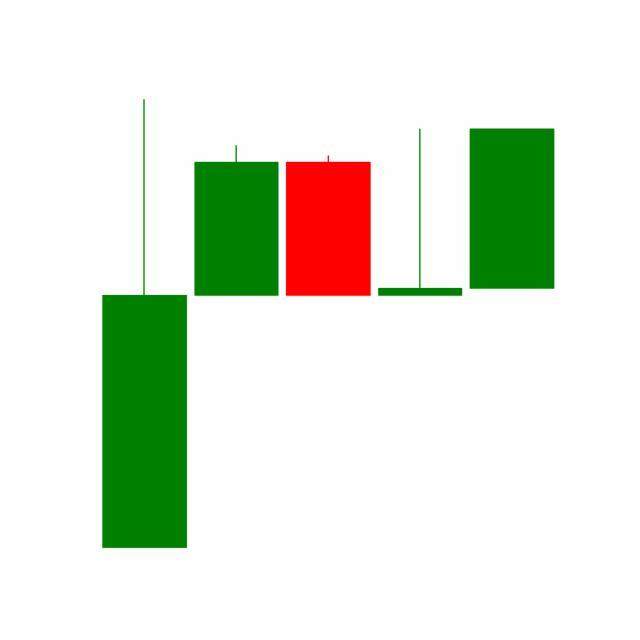Gravestone Doji: (374, 128, 468, 298)
